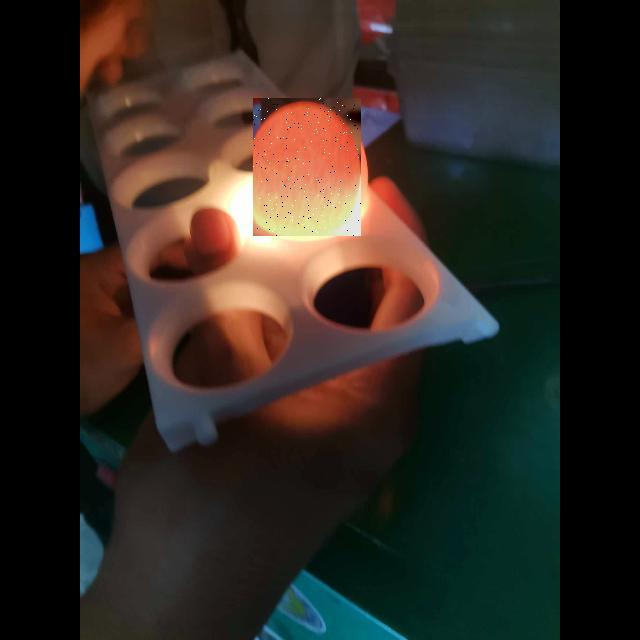Fertile: (253, 98, 361, 236)
